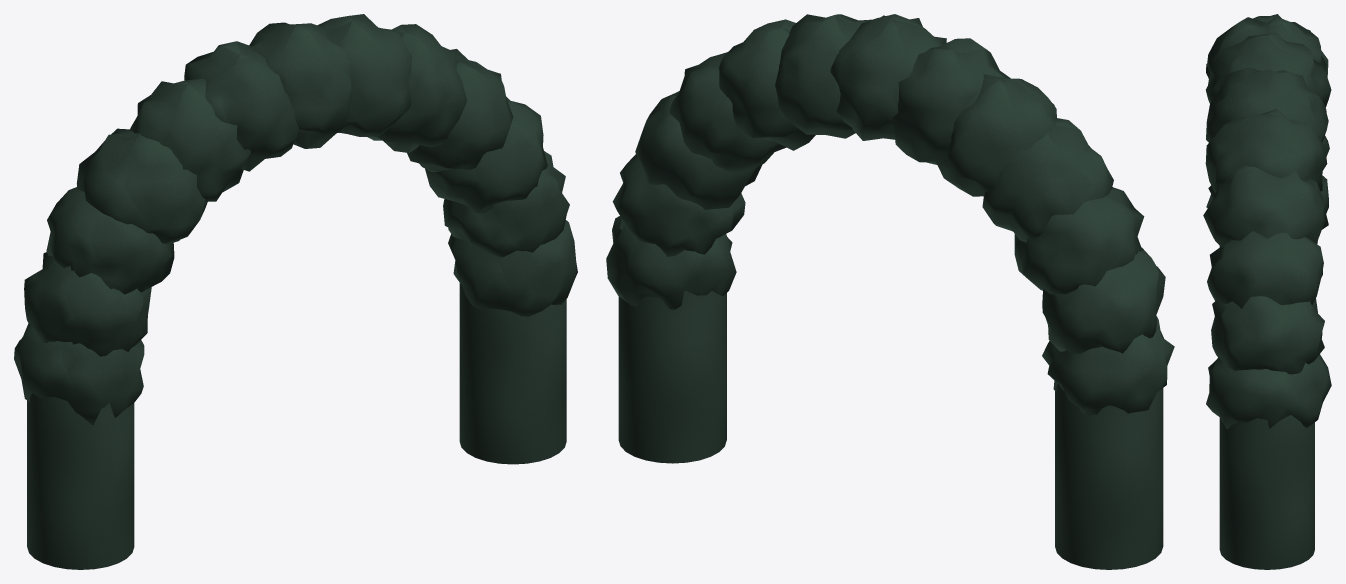
Rendered from arch.glb.
3 views of the same model, side by side, from view 1: azimuth 30°, elevation 25°; view 2: azimuth 150°, elevation 25°; view 3: azimuth 270°, elevation 25° (orthographic). The views are drawn at different scales.
Parts seen in each view (by area): view 1: Rock column, Rock column.001, Porous arch stone.009, Porous arch stone.011, Porous arch stone.006, Porous arch stone.007, Porous arch stone.010, Porous arch stone.008, Porous arch stone.012, Porous arch stone, Porous arch stone.005, Porous arch stone.002 (+3 smaller); view 2: Rock column.001, Rock column, Porous arch stone.009, Porous arch stone.008, Porous arch stone.010, Porous arch stone.011, Porous arch stone.006, Porous arch stone.007, Porous arch stone.012, Porous arch stone.005, Porous arch stone, Porous arch stone.001 (+3 smaller); view 3: Rock column.001, Porous arch stone.001, Porous arch stone.003, Porous arch stone.002, Porous arch stone.004, Porous arch stone, Porous arch stone.005, Porous arch stone.006, Porous arch stone.007, Porous arch stone.012, Porous arch stone.008.
Boxes of the visible parts, <box> form: Rock column: <box>27,393,134,569</box>; Rock column.001: <box>459,283,566,464</box>; Porous arch stone.009: <box>76,128,207,244</box>; Porous arch stone.011: <box>24,252,151,356</box>; Porous arch stone.006: <box>249,22,352,148</box>; Porous arch stone.007: <box>184,41,298,171</box>; Porous arch stone.010: <box>46,187,174,294</box>; Porous arch stone.008: <box>130,78,250,201</box>; Porous arch stone.012: <box>14,323,144,425</box>; Porous arch stone: <box>448,220,577,316</box>; Porous arch stone.005: <box>317,14,411,136</box>; Porous arch stone.002: <box>425,96,547,213</box>; Rock column.001: <box>618,291,726,463</box>; Rock column: <box>1055,384,1163,569</box>; Porous arch stone.009: <box>982,118,1113,242</box>; Porous arch stone.008: <box>935,74,1056,196</box>; Porous arch stone.010: <box>1014,187,1144,294</box>; Porous arch stone.011: <box>1042,247,1165,353</box>; Porous arch stone.006: <box>830,14,946,140</box>; Porous arch stone.007: <box>892,38,1010,164</box>; Porous arch stone.012: <box>1042,316,1174,415</box>; Porous arch stone.005: <box>775,14,871,138</box>; Porous arch stone: <box>606,216,736,309</box>; Porous arch stone.001: <box>612,154,745,256</box>; Rock column.001: <box>1219,415,1314,569</box>; Porous arch stone.001: <box>1211,296,1324,374</box>; Porous arch stone.003: <box>1203,165,1328,247</box>; Porous arch stone.002: <box>1207,231,1323,308</box>; Porous arch stone.004: <box>1205,108,1327,193</box>; Porous arch stone: <box>1206,354,1331,429</box>; Porous arch stone.005: <box>1206,67,1328,142</box>; Porous arch stone.006: <box>1206,32,1331,108</box>; Porous arch stone.007: <box>1207,16,1326,84</box>; Porous arch stone.012: <box>1206,175,1328,213</box>; Porous arch stone.008: <box>1208,14,1328,77</box>.
Bounding box in the file's own units: 0.6807 × 0.5625 × 0.156.
Materials: 2 (1 with a texture image).
